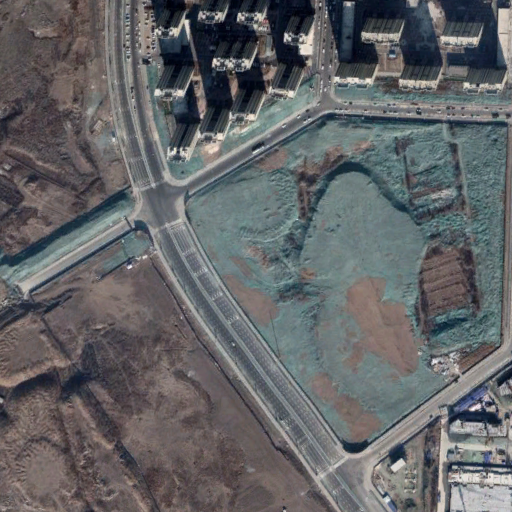cw: (167, 82, 512, 465), (7, 191, 156, 300)
